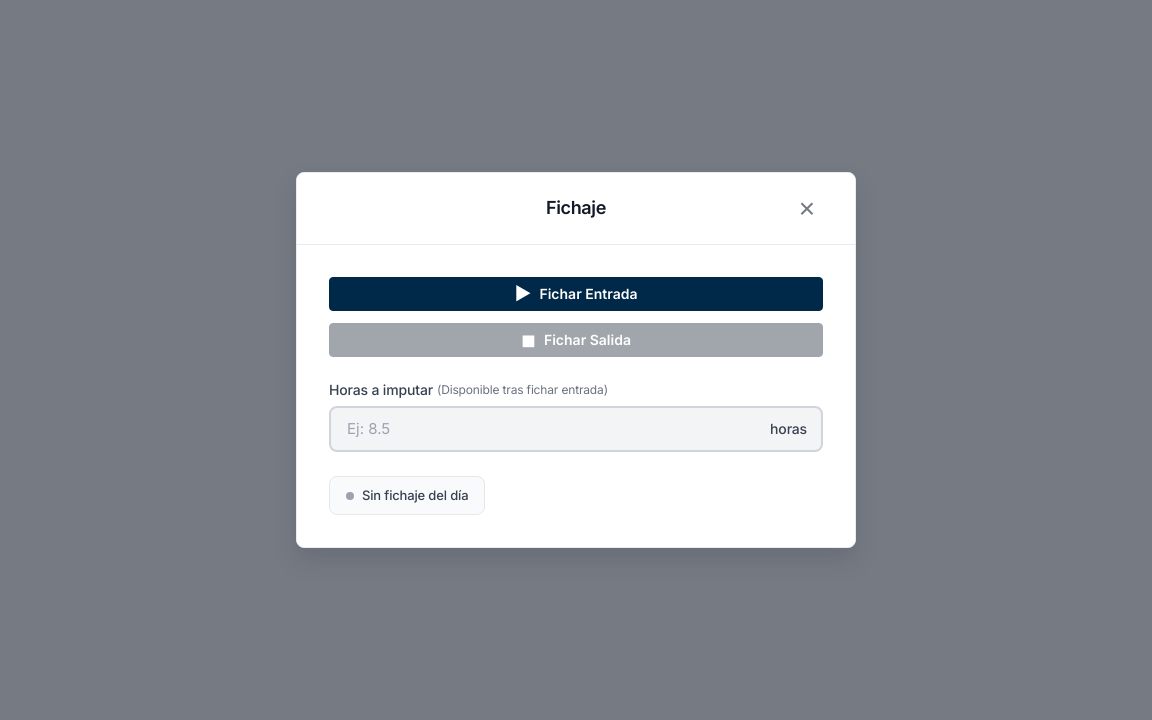
Test: FichajeModal › registra una entrada y actualiza el estado visible
The width and height of the screenshot is (1152, 720).
Click the button "▶ Fichar Entrada". click: point(576, 294)
box: [329,277,823,311]
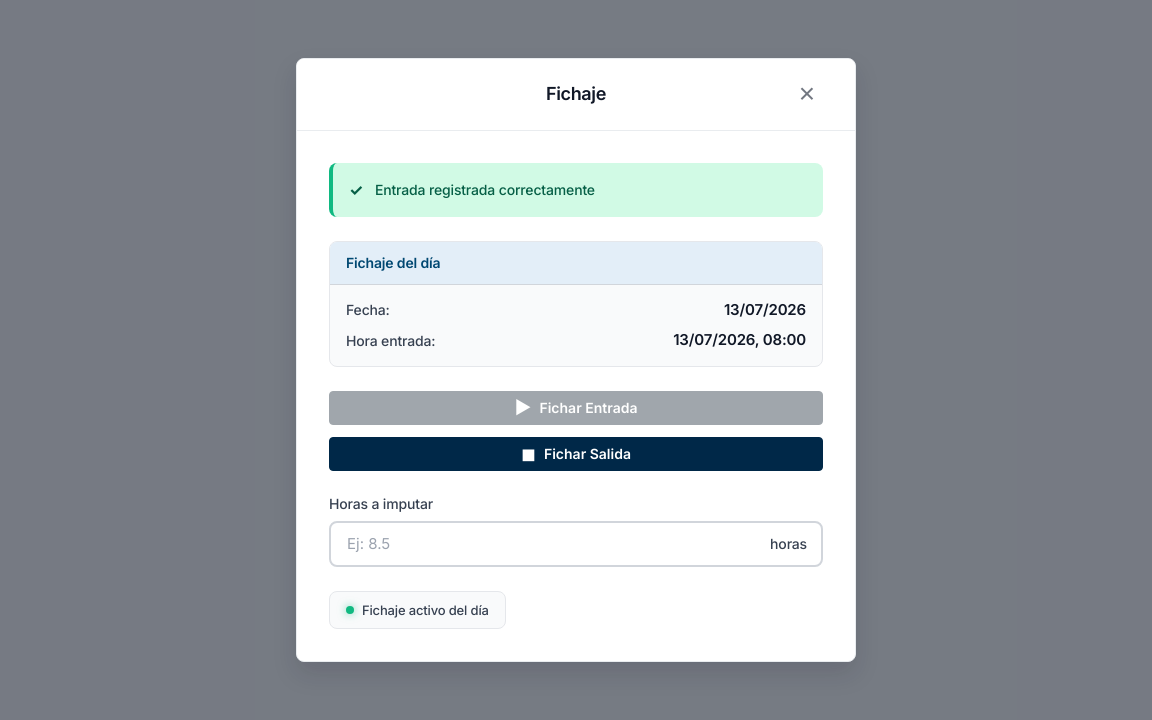
expect the text "Entrada registrada correctamente" is shown: met, box [375,180,595,200]
expect the button "◼ Fichar Salida" is enabled: met, box [329,437,823,471]
